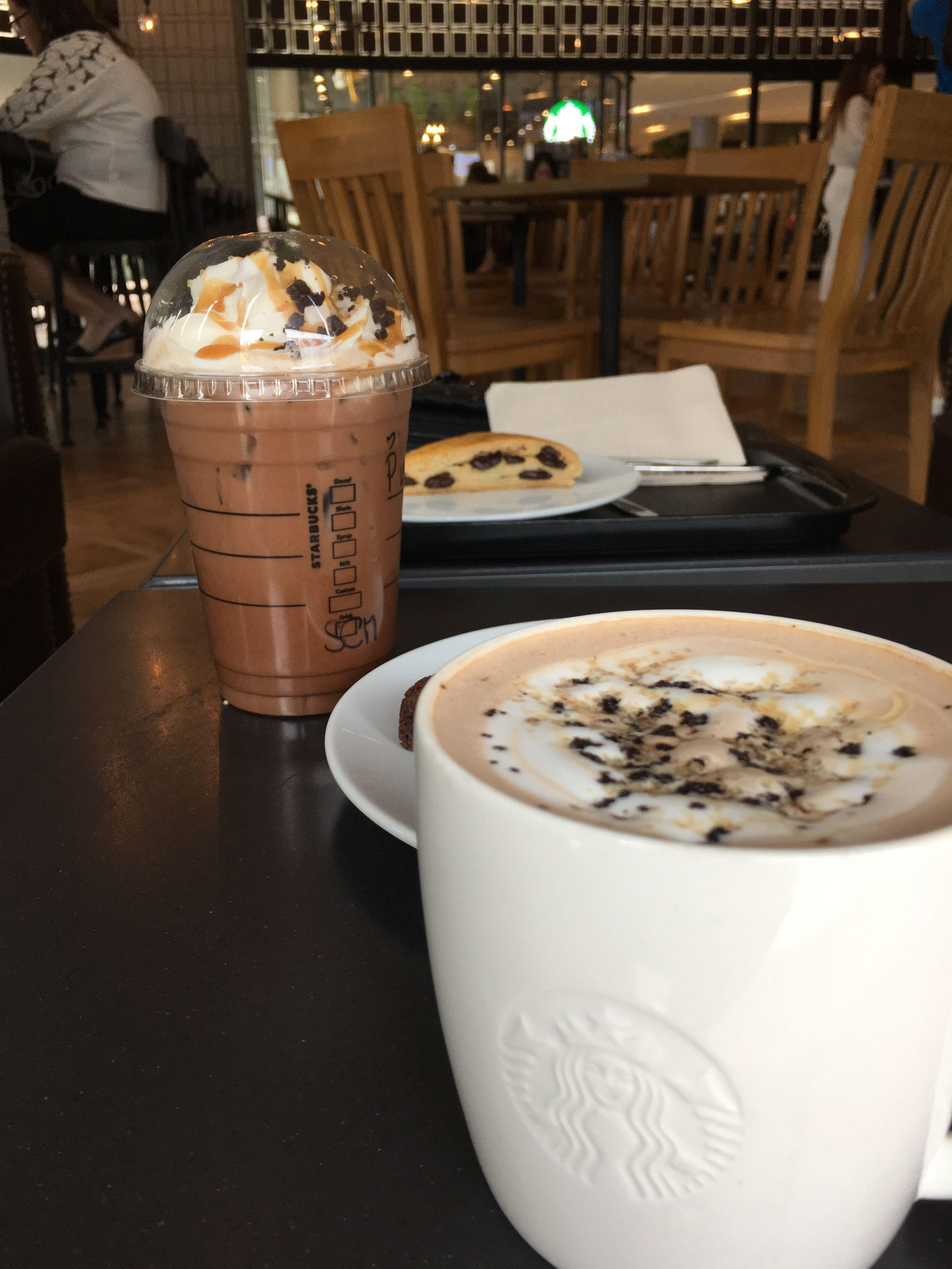cup-disposable: (131, 227, 434, 720)
cup-handle: (409, 604, 952, 1269)
